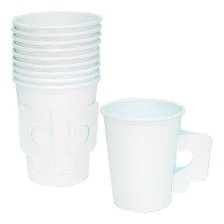paper_cup: (4, 5, 106, 191), (95, 92, 216, 217)
